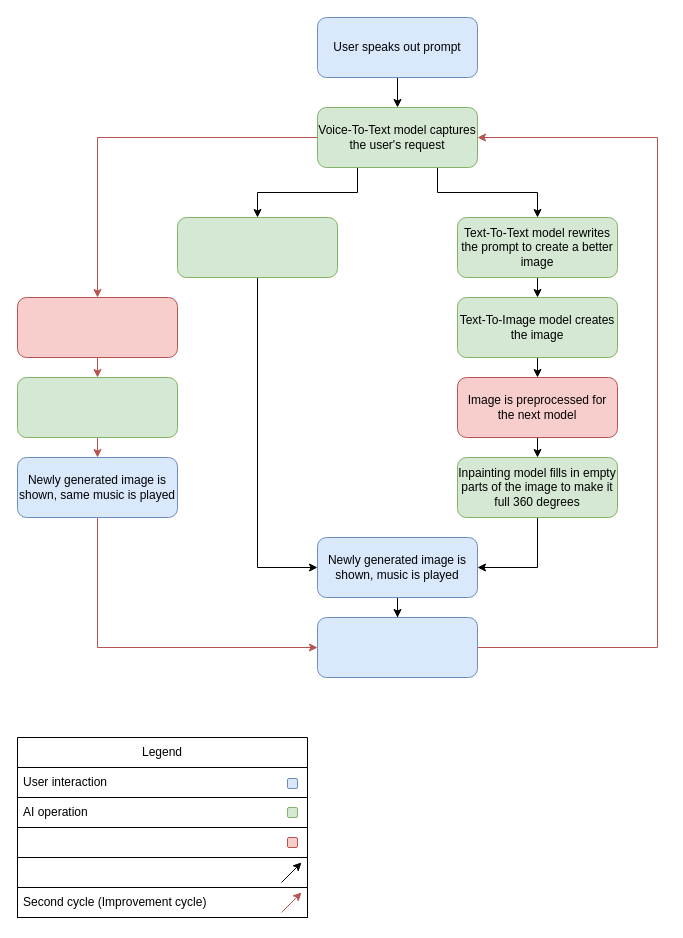
Image size: 683x938. Some labels were removed from this diagram. The centre of each missing label's shape, as x and y in pixels:
First cycle (Generative Cycle): point 162,872
Image-To-Image model recreates the image with the improvement: point 97,407
Python logic: point 162,842
Text-To-Audio model generates background music: point 257,247
User asks for improvement or a change: point 397,647
We get the original generated image: point 97,327
